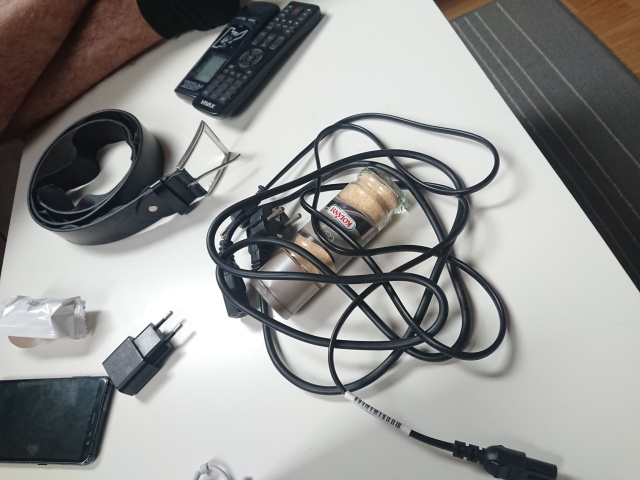Kotanyi Garlic Granules 70g: (247, 164, 409, 321)
